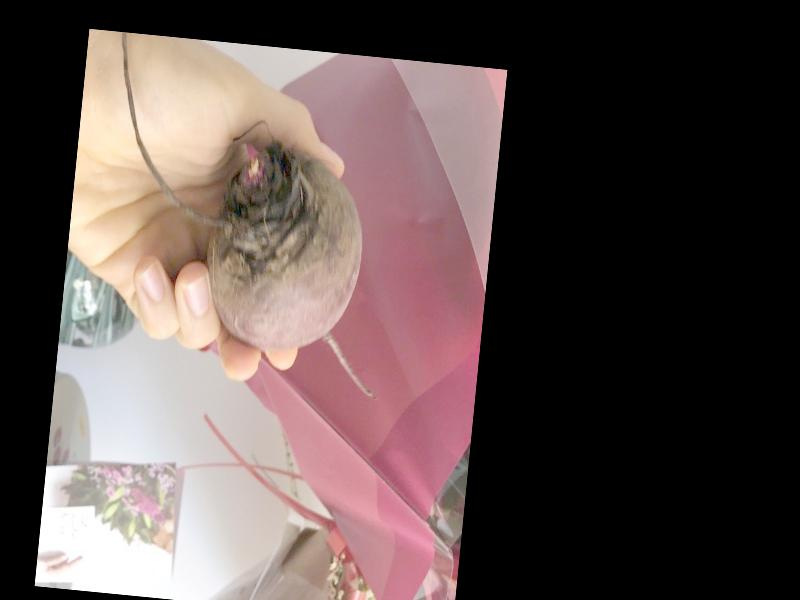Beet: (88, 35, 408, 401)
